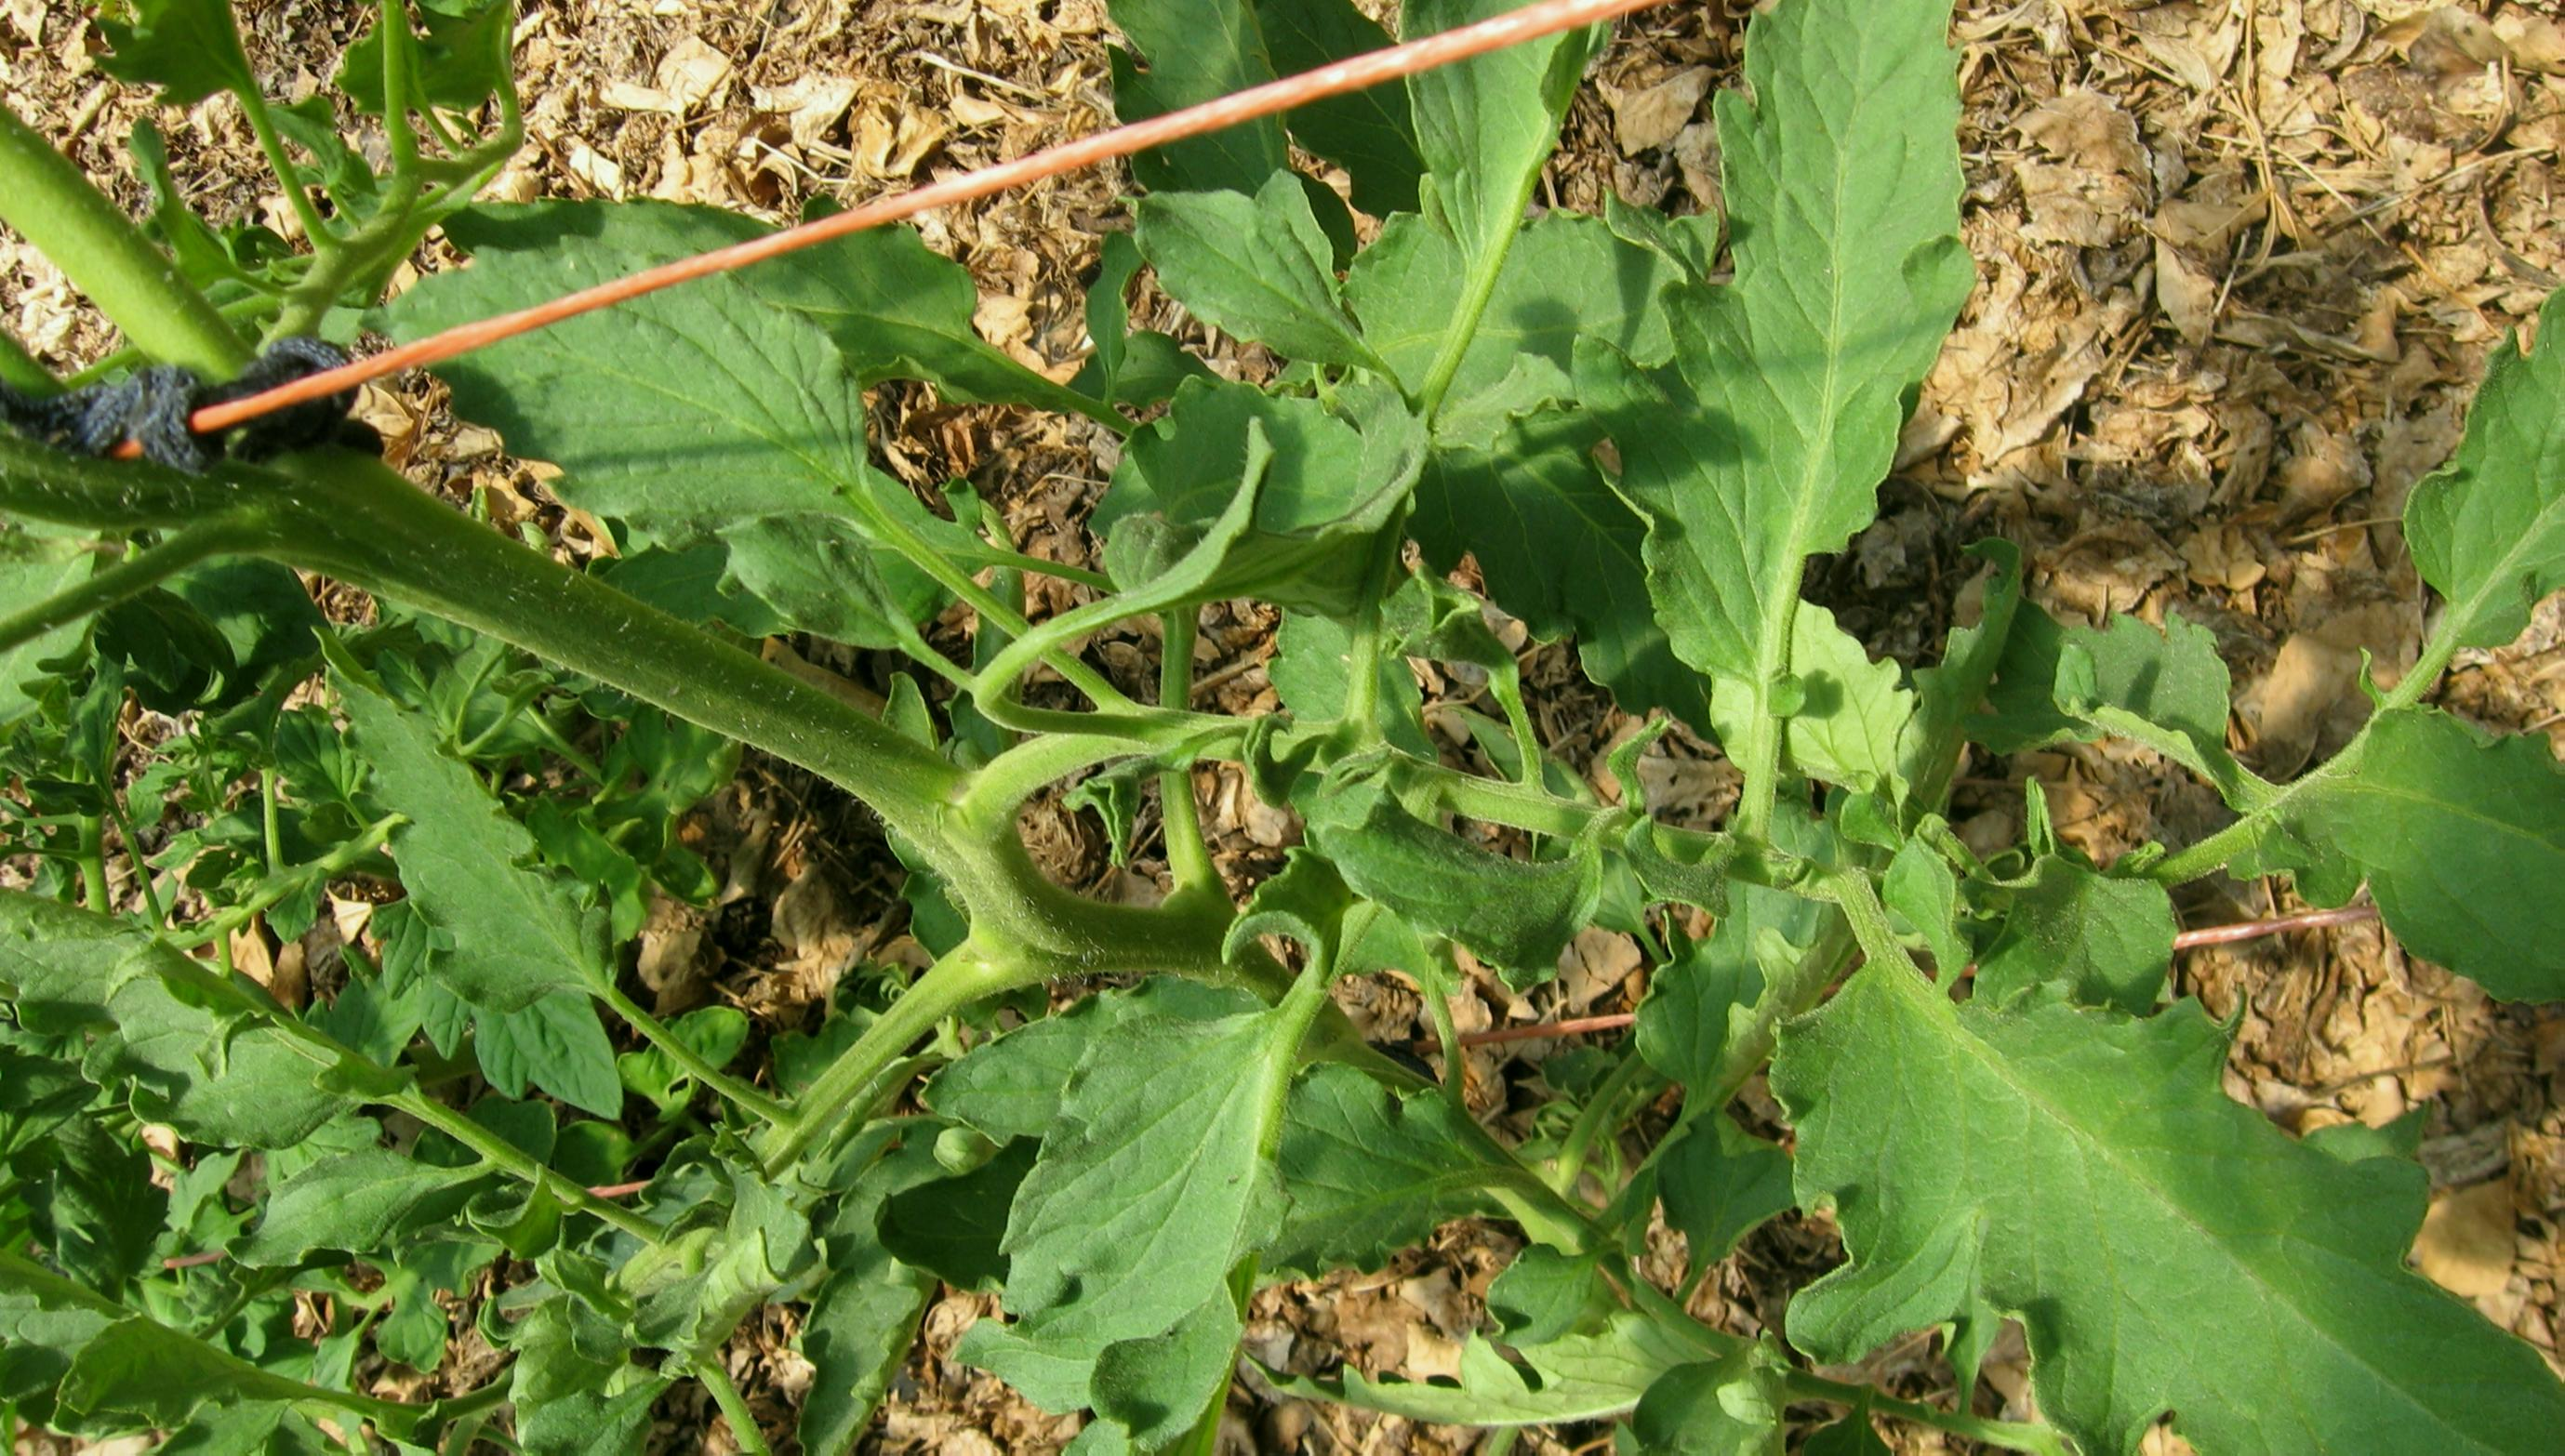Tomato leaf: (1794, 873, 2468, 1456), (362, 241, 1059, 650), (1577, 12, 1989, 694), (1165, 15, 1599, 489), (1047, 954, 1351, 1354), (287, 654, 591, 998), (2380, 297, 2564, 687), (1949, 594, 2266, 805)
